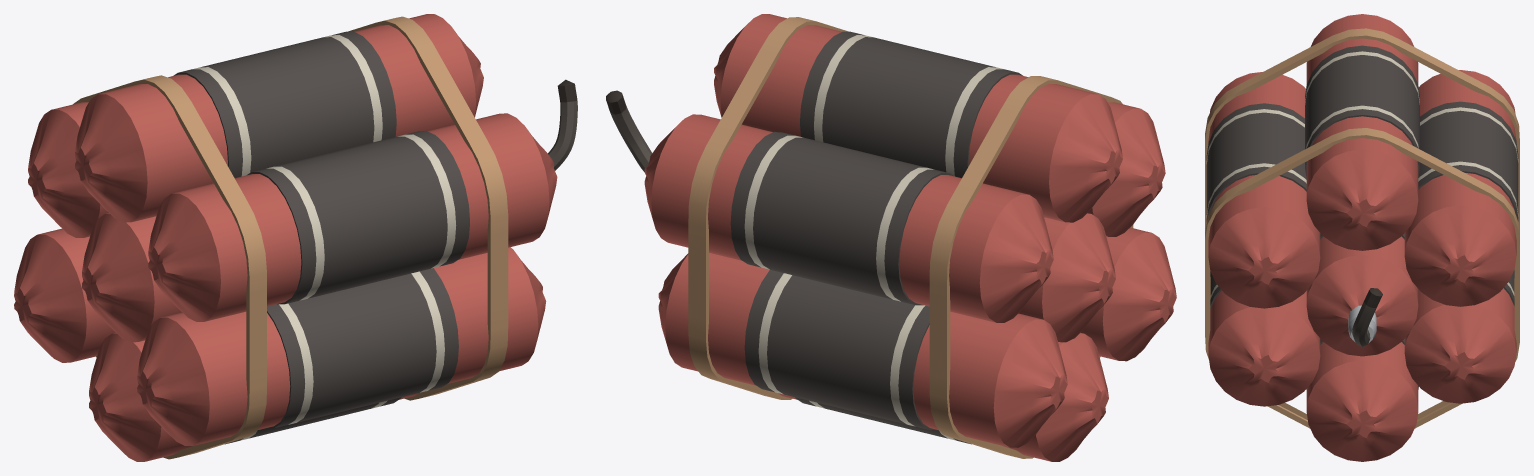
The model's file is dynamite_d_bundle_red.glb.
3 renders of one model, left to right at view 1: azimuth 30°, elevation 25°; view 2: azimuth 150°, elevation 25°; view 3: azimuth 270°, elevation 25°, orthographic. The views are drawn at different scales.
Parts seen in each view (by area): view 1: Dynamite; view 2: Dynamite; view 3: Dynamite.
Part boxes in pixels (x1,y1,x2,y2): Dynamite: [14, 14, 577, 461]; Dynamite: [606, 14, 1176, 461]; Dynamite: [1205, 14, 1519, 461].
Size of the model in its own units: 0.7179 by 0.5054 by 0.4615.
